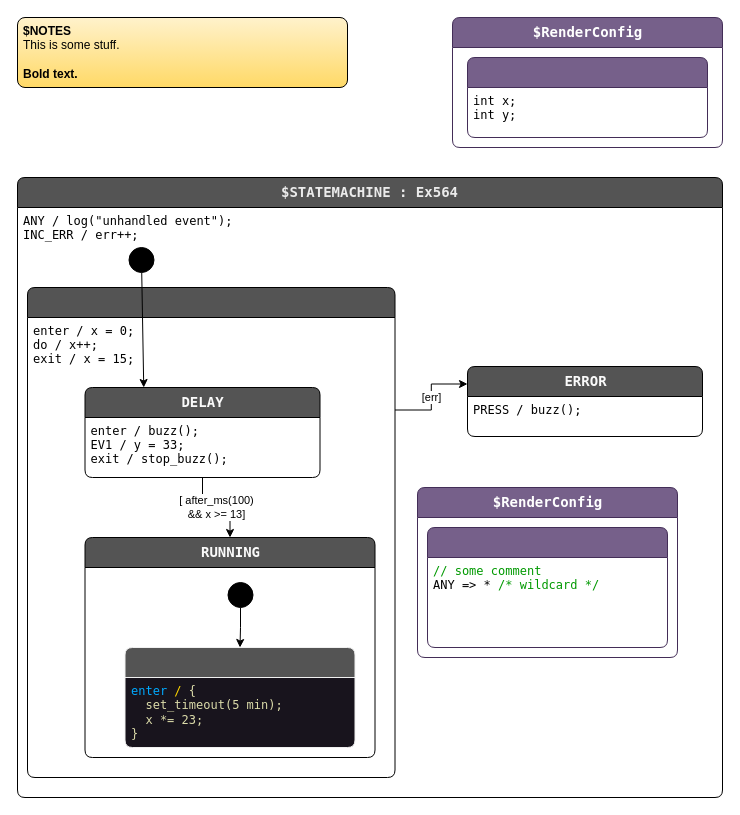
The diagram is 740 pixels wide and 815 high, and some of its shapes have lost their labels. Here are the shapes that lost their labels. From the top down, the box of each, then its label:
(466, 56, 708, 138): $CONFIG: AutoExpandedVars
(26, 286, 395, 778): NORMAL
(426, 526, 668, 648): $CONFIG: TriggerMap
(124, 646, 355, 748): PRE_HEAT
